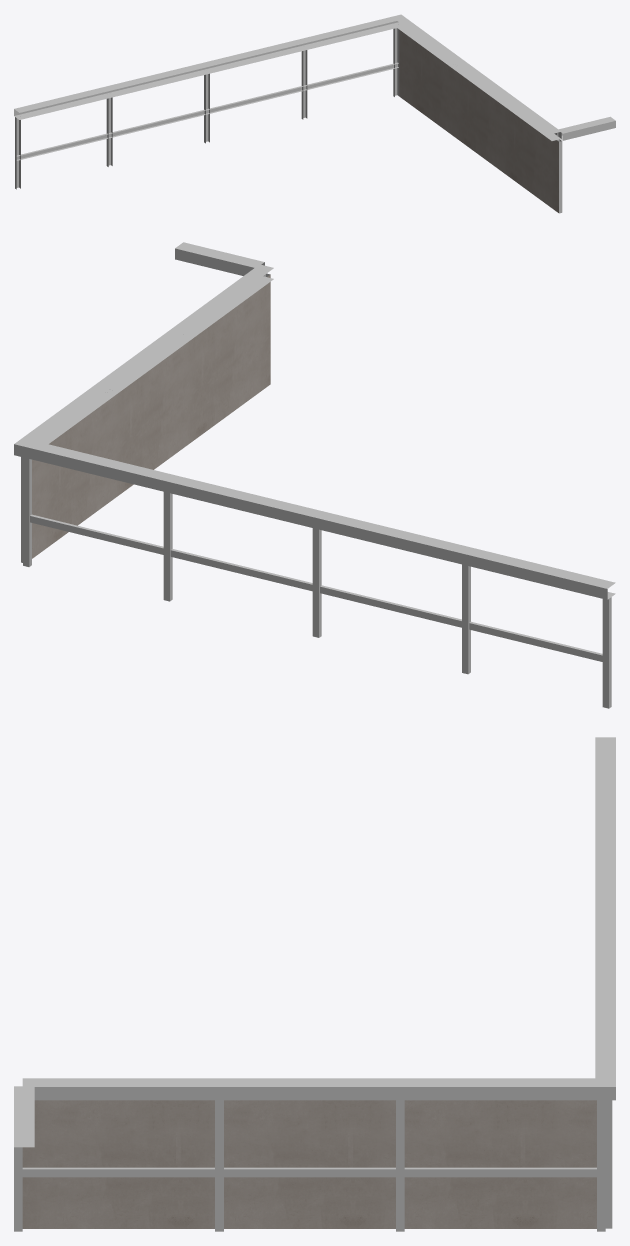
The model's file is Corridor.fbx.
The picture shows the model from 3 angles, top to bottom: view 1: azimuth 30°, elevation 25°; view 2: azimuth 150°, elevation 25°; view 3: azimuth 270°, elevation 25°; orthographic projection. The views are drawn at different scales.
Visible parts, largest first — view 1: Wood_CorridorFrame, Wall_Corridor; view 2: Wood_CorridorFrame, Wall_Corridor; view 3: Wall_Corridor, Wood_CorridorFrame.
Boxes of the visible parts, x1,y1,x2,y2 form: Wood_CorridorFrame: [14, 14, 615, 213]; Wall_Corridor: [399, 30, 558, 212]; Wood_CorridorFrame: [14, 242, 615, 708]; Wall_Corridor: [32, 275, 270, 558]; Wall_Corridor: [22, 1100, 596, 1228]; Wood_CorridorFrame: [14, 737, 615, 1231].
Size of the model in its own units: 1282 by 220 by 822.
